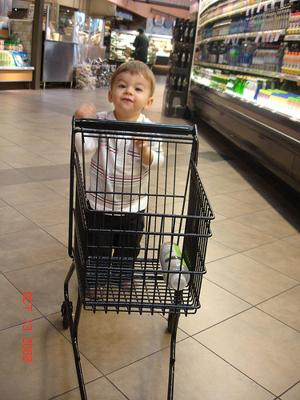person: (73, 57, 166, 302)
